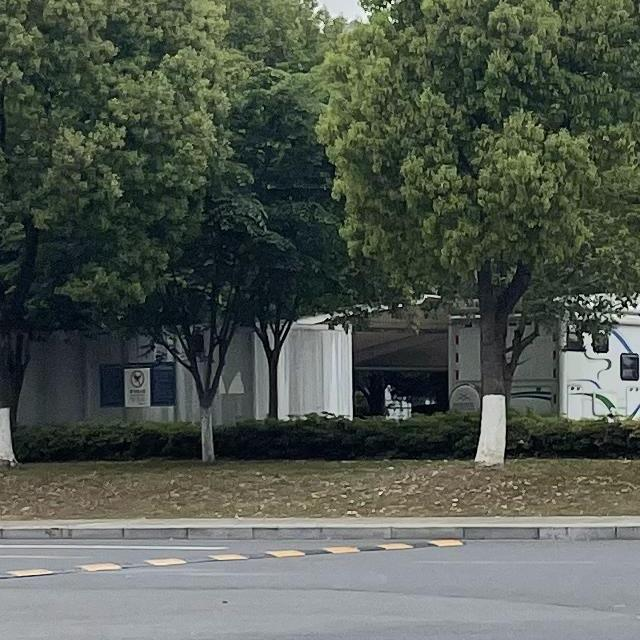curb: (0, 517, 639, 540)
